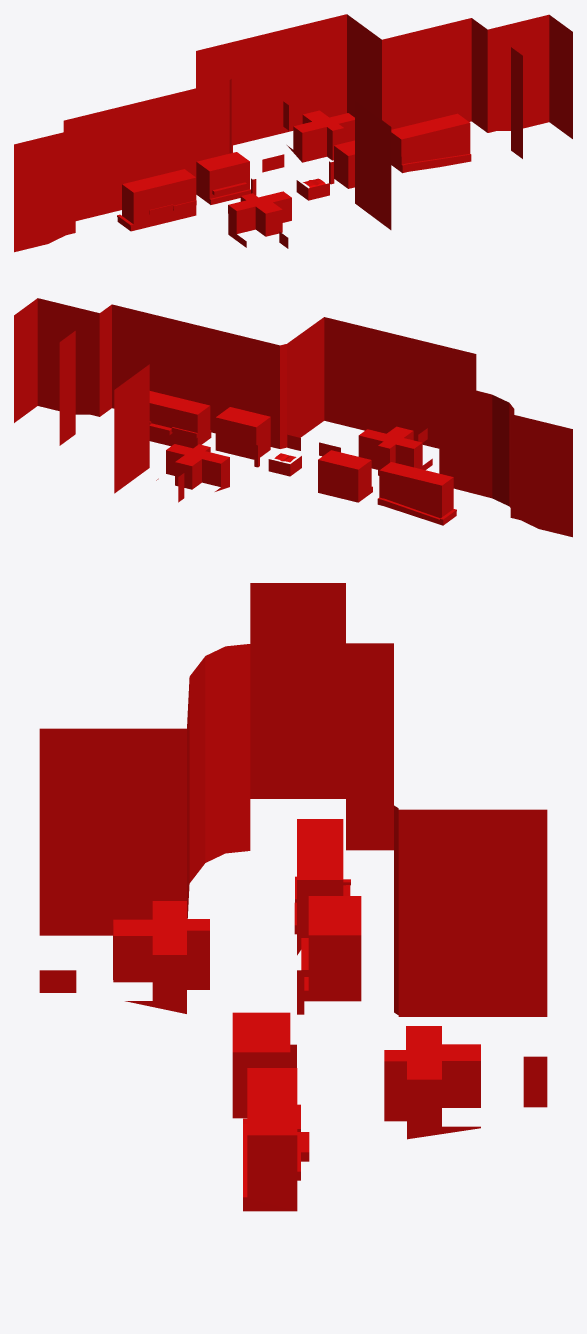
The model's file is gltf__Models__map__Village__cityHall__cityHall_collision_wall.glb.
3 views of the same model, one above another, from view 1: azimuth 30°, elevation 25°; view 2: azimuth 150°, elevation 25°; view 3: azimuth 270°, elevation 25° (orthographic). The views are drawn at different scales.
Visible parts, largest first — view 1: cityHall_mergedCollision_wall; view 2: cityHall_mergedCollision_wall; view 3: cityHall_mergedCollision_wall.
Boxes of the visible parts, box(x1,y1,x2,y2) form: cityHall_mergedCollision_wall: box(14, 14, 572, 252); cityHall_mergedCollision_wall: box(14, 298, 572, 537); cityHall_mergedCollision_wall: box(39, 583, 547, 1211).
Bounding box in the file's own units: 113 × 21.81 × 46.49.
